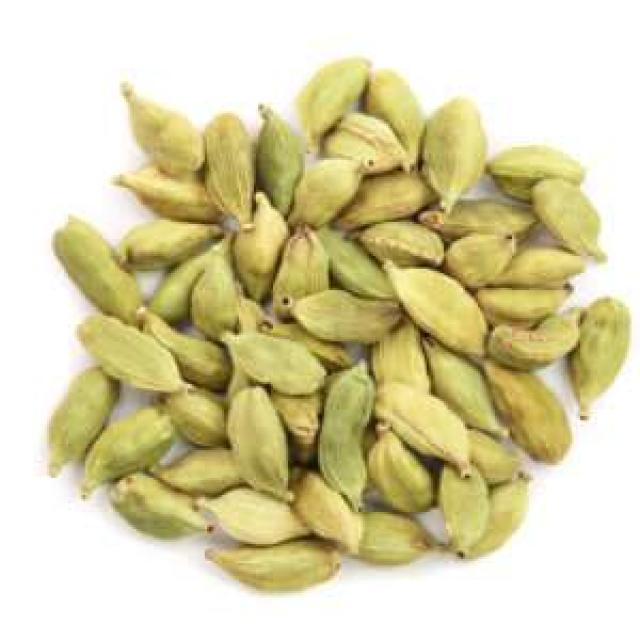Cardamom: (43, 53, 627, 594)
